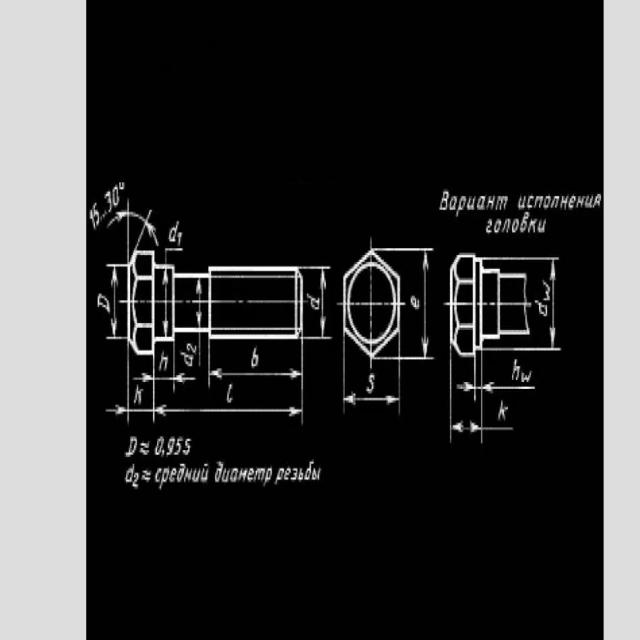marking_line: (155, 405, 301, 417), (548, 259, 562, 347), (422, 251, 433, 357), (210, 368, 304, 379), (344, 393, 401, 411), (455, 379, 502, 396), (319, 269, 330, 339), (138, 373, 199, 385), (161, 269, 170, 338), (450, 421, 484, 439), (193, 280, 203, 327), (111, 266, 118, 333), (105, 403, 128, 416)
special_symbol: (110, 207, 160, 250), (161, 248, 186, 264)
